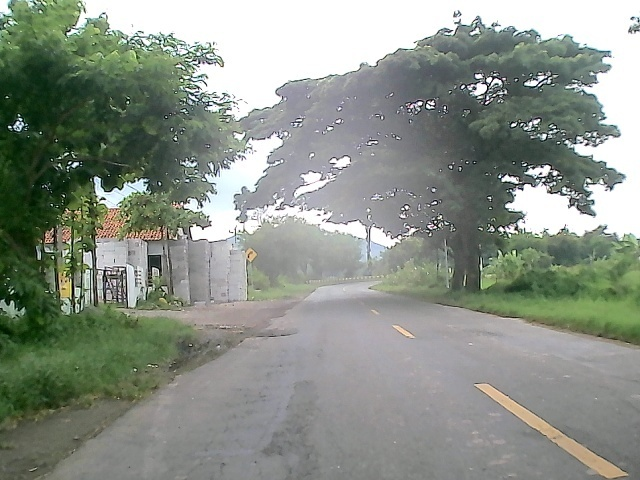Tikungan ke kanan: (243, 247, 259, 264)
